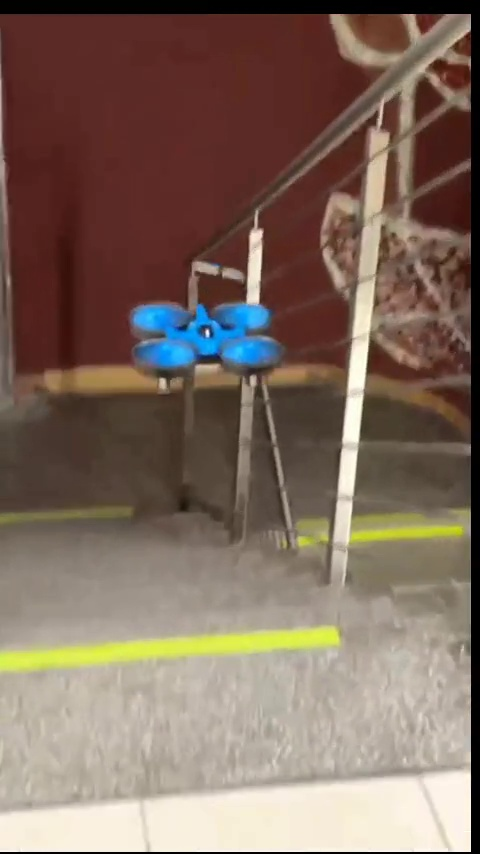drone: (133, 307, 284, 389)
